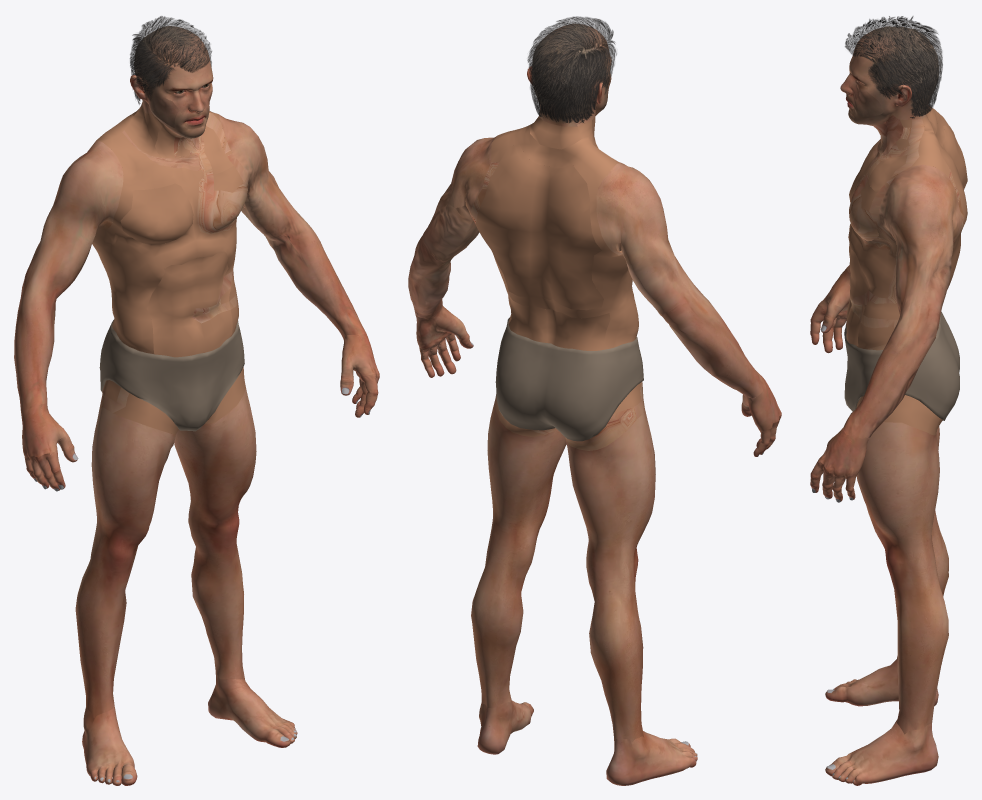
File: human.glb
The picture shows the model from 3 angles, left to right: view 1: azimuth 30°, elevation 25°; view 2: azimuth 150°, elevation 25°; view 3: azimuth 270°, elevation 25°; orthographic projection. The views are drawn at different scales.
Visible parts, largest first — view 1: bacak, modelobjcleanermaterialmergergles, sagkol, solkol, ozelbolge, karin, ayak, kafa, gogus, sac, parmak, sagel (+2 smaller); view 2: bacak, sirt, sagkol, ozelbolge, modelobjcleanermaterialmergergles, sac, solkol, ayak, kafa, bel, parmak, ense (+2 smaller); view 3: bacak, solkol, modelobjcleanermaterialmergergles, ayak, sac, kafa, ozelbolge, parmak, solel, sirt, karin, gogus (+5 smaller).
Boxes of the visible parts, x1,y1,x2,y2 form: bacak: (75,367,256,717); modelobjcleanermaterialmergergles: (92,106,247,354); sagkol: (14,140,123,410); solkol: (218,114,366,336); ozelbolge: (99,320,244,431); karin: (146,251,232,357); ayak: (82,670,297,785); kafa: (134,26,213,138); gogus: (120,166,247,244); sac: (130,16,211,104); parmak: (24,366,379,490); sagel: (21,403,66,457); bacak: (471,382,655,741); sirt: (475,144,603,310); sagkol: (596,162,764,398); ozelbolge: (495,317,643,441); modelobjcleanermaterialmergergles: (471,118,638,348); sac: (527,16,616,123); solkol: (408,135,497,318); ayak: (477,698,697,785); kafa: (532,23,611,126); bel: (508,295,610,350); parmak: (419,323,781,456); ense: (530,111,582,149); bacak: (856,348,948,734); solkol: (842,164,962,438); modelobjcleanermaterialmergergles: (848,108,964,350); ayak: (825,659,938,785); sac: (845,16,942,118); kafa: (846,26,938,126); ozelbolge: (844,311,959,420); parmak: (810,303,856,501); solel: (819,429,869,476); sirt: (939,125,967,289); karin: (846,244,869,345); gogus: (849,159,878,241).
Bounding box in the file's own units: 61.57 × 123 × 24.34.
Materials: 9 (8 with a texture image).
